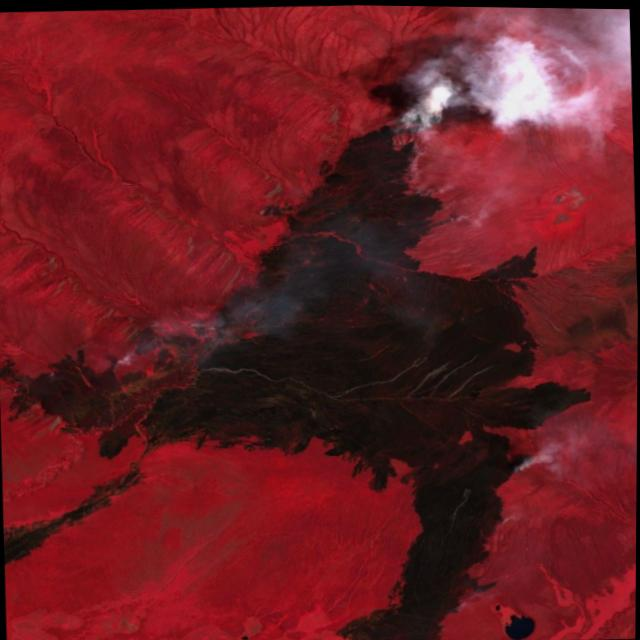fire: (356, 71, 475, 188), (131, 310, 229, 359)
